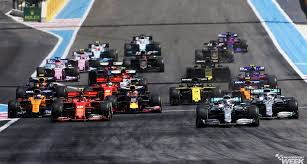FormulaOneCar: (193, 96, 261, 130), (51, 90, 113, 123), (248, 85, 299, 119), (167, 76, 224, 103), (111, 85, 163, 114), (11, 88, 58, 120), (229, 64, 279, 92), (34, 56, 80, 82), (185, 59, 232, 83), (194, 39, 239, 63), (121, 52, 167, 72), (124, 34, 165, 55), (215, 30, 252, 51)
